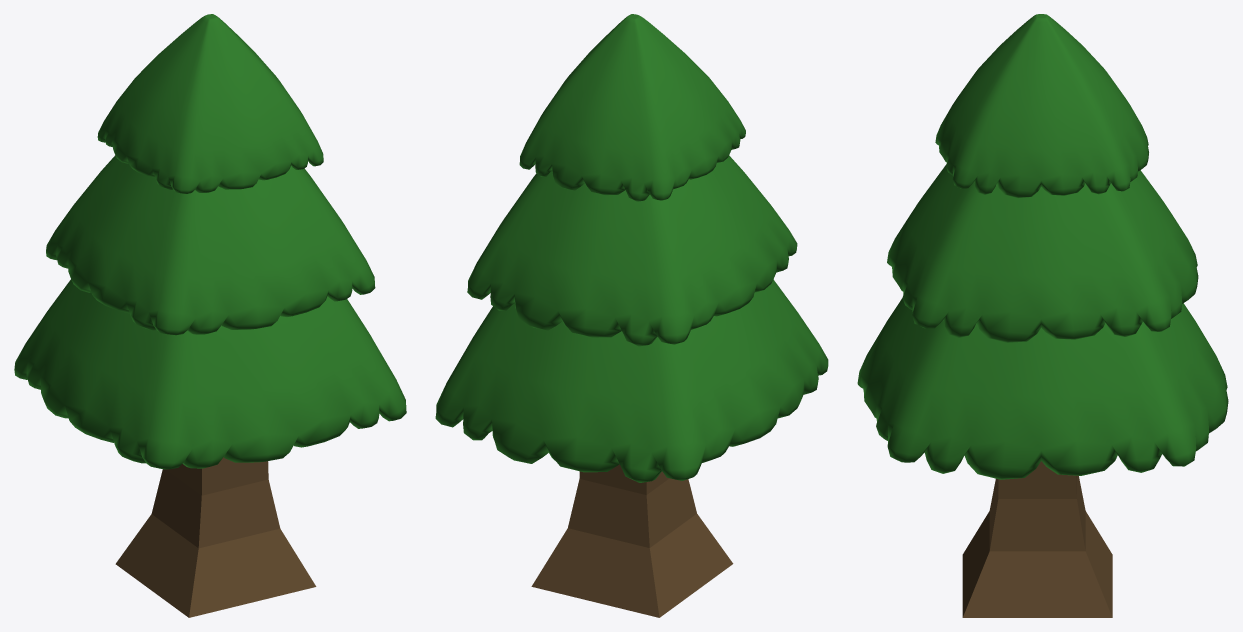
Rendered from tree2.fbx.
The picture shows the model from 3 angles, left to right: view 1: azimuth 30°, elevation 25°; view 2: azimuth 150°, elevation 25°; view 3: azimuth 270°, elevation 25°; orthographic projection.
Parts seen in each view (by area): view 1: Cube.009, Cube.010, Cube.011, Cube.012; view 2: Cube.009, Cube.010, Cube.011, Cube.012; view 3: Cube.009, Cube.010, Cube.011, Cube.012.
Part boxes in pixels (left/top/right/bottom): Cube.009: left=14, top=279, right=406, bottom=469; Cube.010: left=46, top=155, right=375, bottom=335; Cube.011: left=97, top=14, right=323, bottom=193; Cube.012: left=115, top=457, right=316, bottom=617; Cube.009: left=435, top=279, right=828, bottom=482; Cube.010: left=467, top=155, right=797, bottom=346; Cube.011: left=519, top=14, right=745, bottom=201; Cube.012: left=531, top=464, right=733, bottom=617; Cube.009: left=857, top=298, right=1228, bottom=479; Cube.010: left=887, top=164, right=1198, bottom=342; Cube.011: left=935, top=14, right=1148, bottom=198; Cube.012: left=962, top=461, right=1112, bottom=617.
Size of the model in its own units: 123 by 220 by 130.
